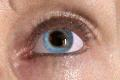eye: (43, 28, 73, 53)
